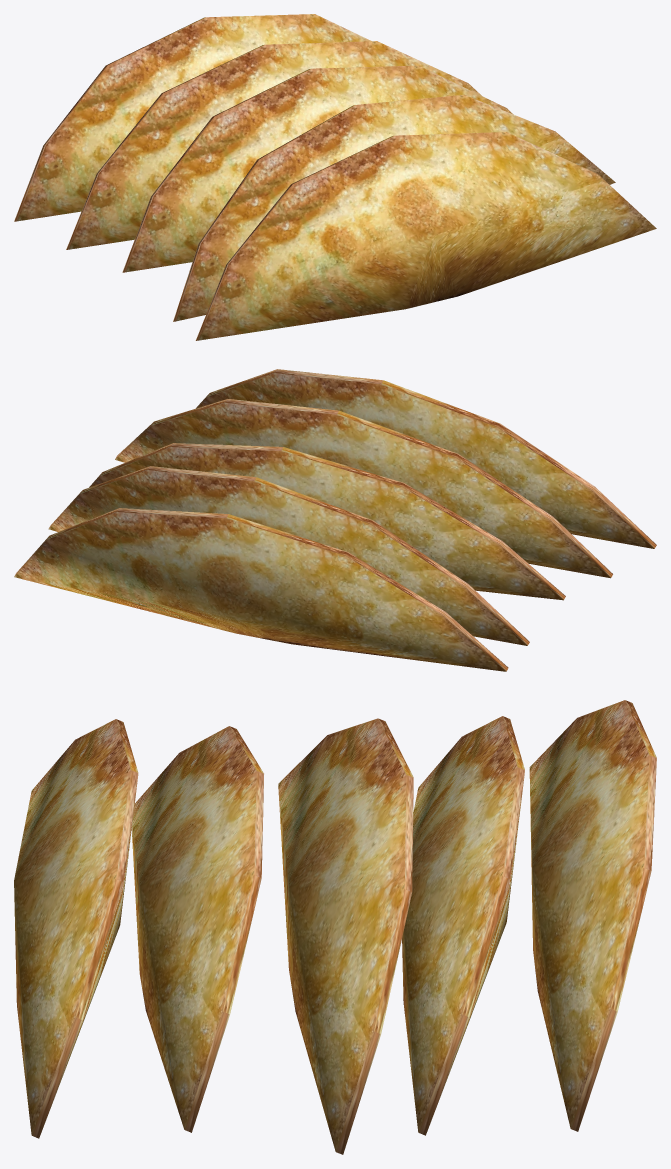
The model's file is Dumpling.fbx.
3 renders of one model, top to bottom at view 1: azimuth 30°, elevation 25°; view 2: azimuth 150°, elevation 25°; view 3: azimuth 270°, elevation 25°, orthographic. The views are drawn at different scales.
Parts seen in each view (by area): view 1: Dumpling.004, Dumpling.002, Dumpling, Dumpling.001, Dumpling.003; view 2: Dumpling, Dumpling.003, Dumpling.001, Dumpling.004, Dumpling.002; view 3: Dumpling.002, Dumpling, Dumpling.003, Dumpling.004, Dumpling.001.
Boxes of the visible parts, x1,y1,x2,y2 form: Dumpling.004: (195,132,656,340); Dumpling.002: (122,65,513,272); Dumpling: (14,14,371,221); Dumpling.001: (66,41,481,249); Dumpling.003: (173,94,615,321); Dumpling: (14,508,508,671); Dumpling.003: (115,399,612,578); Dumpling.001: (48,466,529,645); Dumpling.004: (196,369,656,548); Dumpling.002: (89,443,565,600); Dumpling.002: (278,718,413,1154); Dumpling: (529,700,656,1131); Dumpling.003: (131,726,263,1132); Dumpling.004: (14,719,138,1138); Dumpling.001: (402,716,524,1135).
Bounding box in the file's own units: 296 × 83.9 × 219.
Materials: 1 (1 with a texture image).
